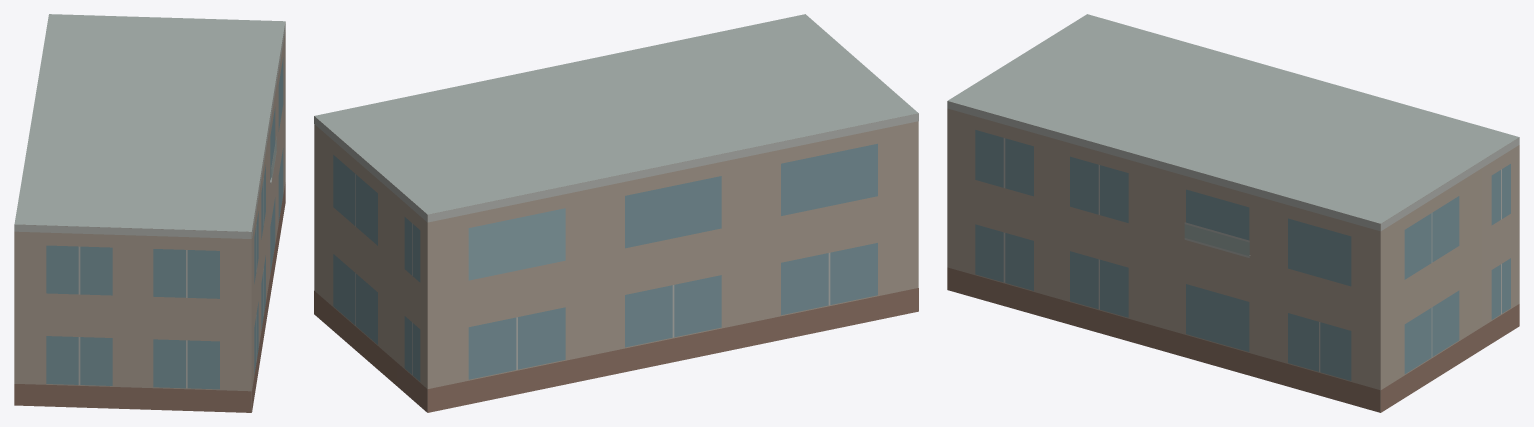
File: survey-upis-32703961.glb
3 views of the same model, side by side, from view 1: azimuth 30°, elevation 25°; view 2: azimuth 150°, elevation 25°; view 3: azimuth 270°, elevation 25° (orthographic). The views are drawn at different scales.
Visible parts, largest first — view 1: survey-upis-32703961.tmp; view 2: survey-upis-32703961.tmp; view 3: survey-upis-32703961.tmp.
Part boxes in pixels (x1,y1,x2,y2): survey-upis-32703961.tmp: (14,14,285,412); survey-upis-32703961.tmp: (314,14,918,412); survey-upis-32703961.tmp: (947,14,1519,412).
Size of the model in its own units: 14.53 by 6.1 by 16.74.
